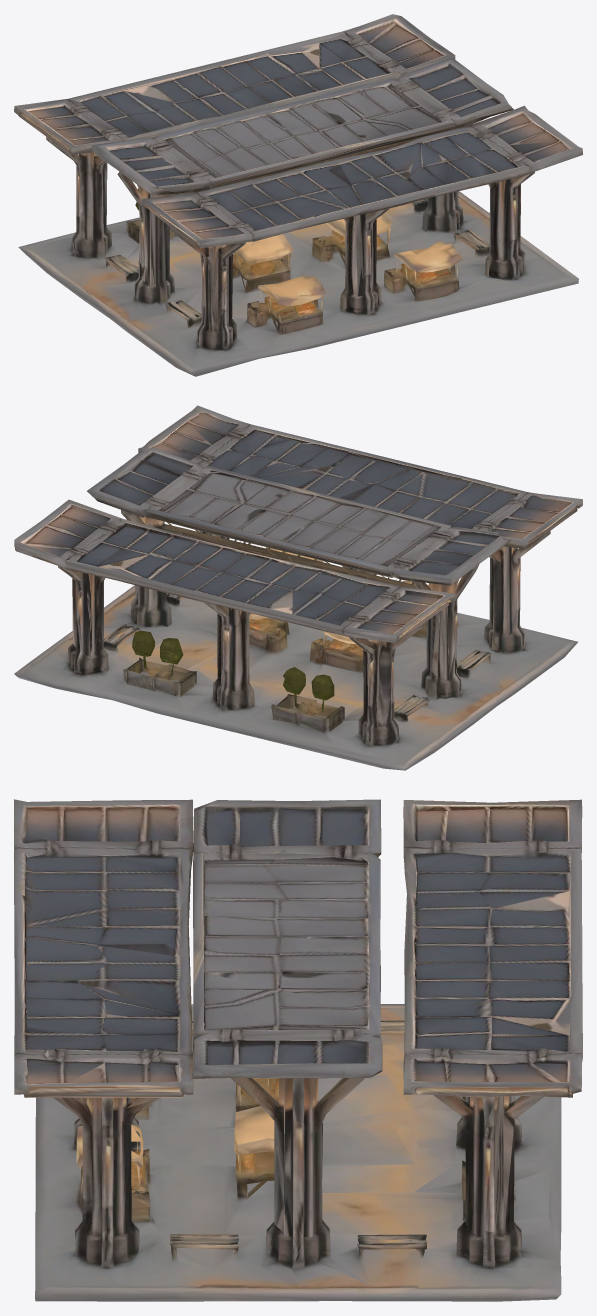
File: marketArcade.glb
3 views of the same model, one above another, from view 1: azimuth 30°, elevation 25°; view 2: azimuth 150°, elevation 25°; view 3: azimuth 270°, elevation 25° (orthographic). The views are drawn at different scales.
Visible parts, largest first — view 1: marketArcade; view 2: marketArcade; view 3: marketArcade.
Part boxes in pixels (x1,y1,x2,y2): marketArcade: (14,14,582,376); marketArcade: (14,405,582,770); marketArcade: (14,799,582,1301).
Bounding box in the file's own units: 28 × 10.09 × 23.24.
1 material, 1 textured.
